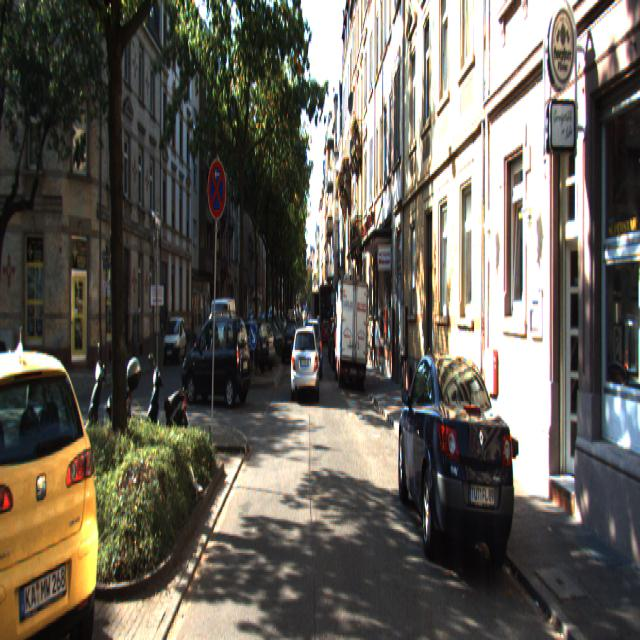Car: (394, 340, 526, 596), (84, 344, 147, 473), (180, 306, 252, 406), (145, 345, 194, 472), (334, 276, 368, 384), (226, 316, 271, 373), (290, 324, 321, 404), (302, 318, 322, 382)
